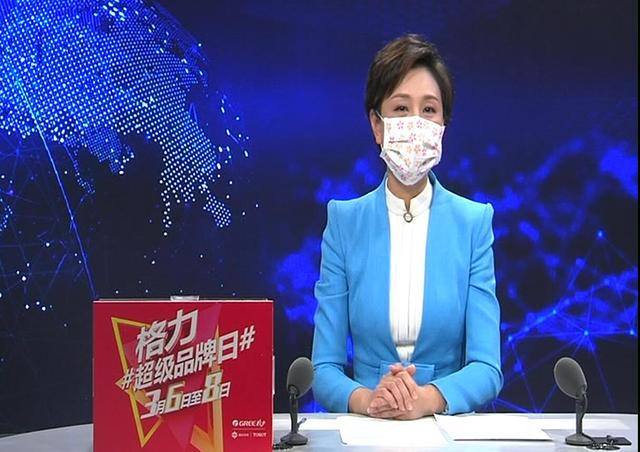mask: (377, 76, 452, 198)
